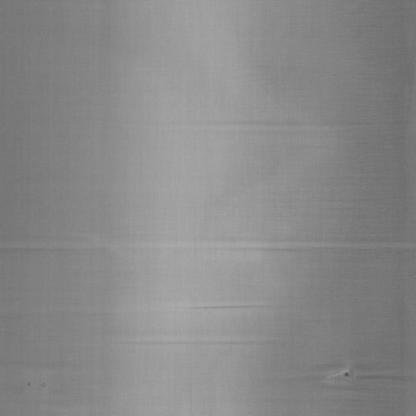rolled_pit: (323, 355, 361, 392)
